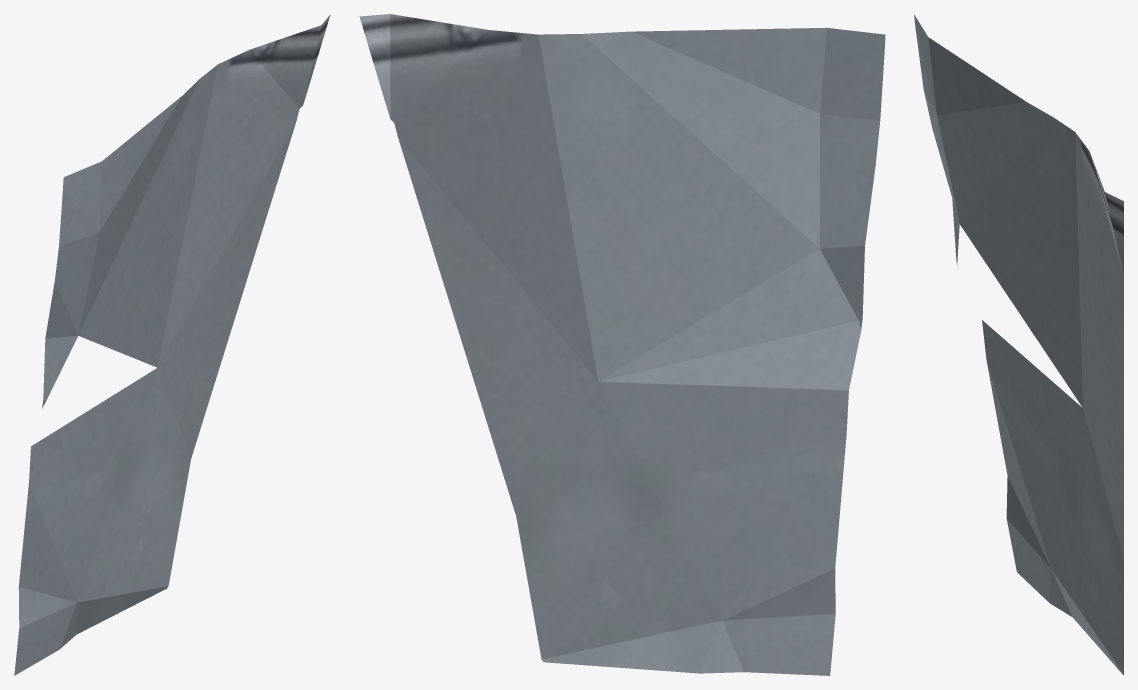
The picture shows the model from 3 angles, left to right: view 1: azimuth 30°, elevation 25°; view 2: azimuth 150°, elevation 25°; view 3: azimuth 270°, elevation 25°; orthographic projection. The views are drawn at different scales.
Size of the model in its own units: 0.6025 by 0.8373 by 0.2854.
Materials: 2 (2 with a texture image).
